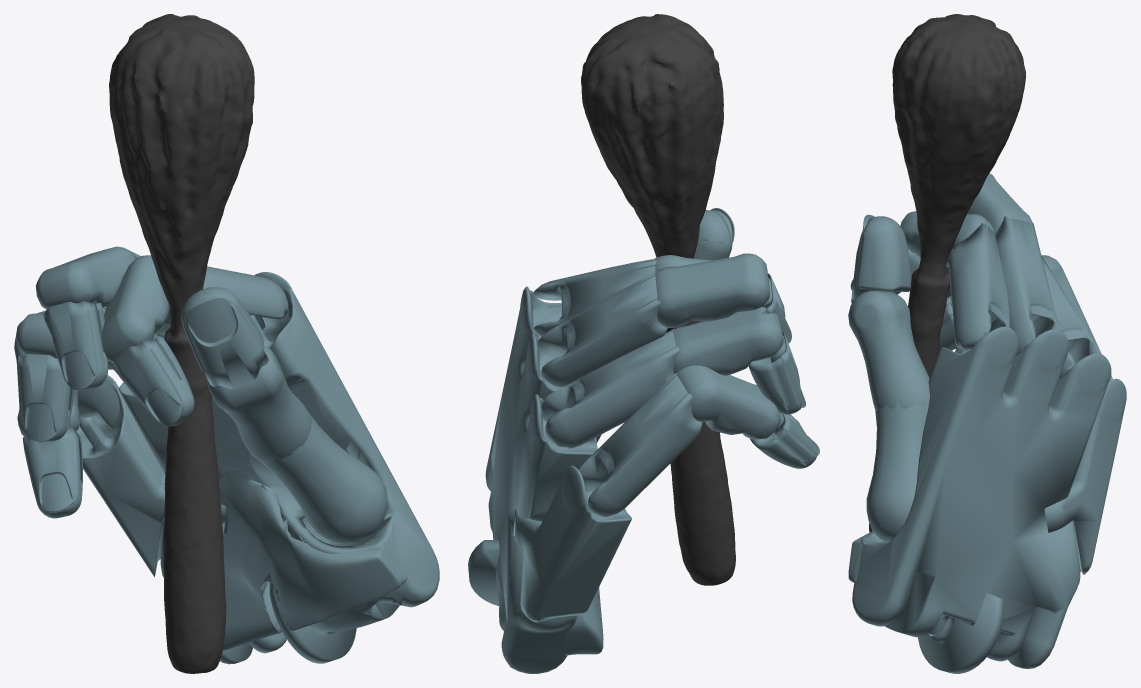
3 views of the same model, side by side, from view 1: azimuth 30°, elevation 25°; view 2: azimuth 150°, elevation 25°; view 3: azimuth 270°, elevation 25° (orthographic). The views are drawn at different scales.
Parts seen in each view (by area): view 1: world; view 2: world; view 3: world.
Part boxes in pixels (x1,y1,x2,y2): world: (14,14,439,673); world: (468,14,819,673); world: (848,14,1126,673).
Bounding box in the file's own units: 0.1321 × 0.2315 × 0.0964.
1 material, 1 textured.
